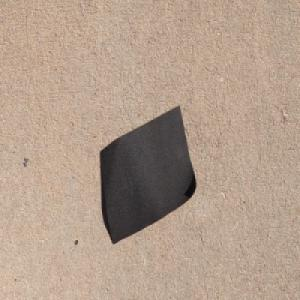PaintChip: (99, 104, 197, 246)
